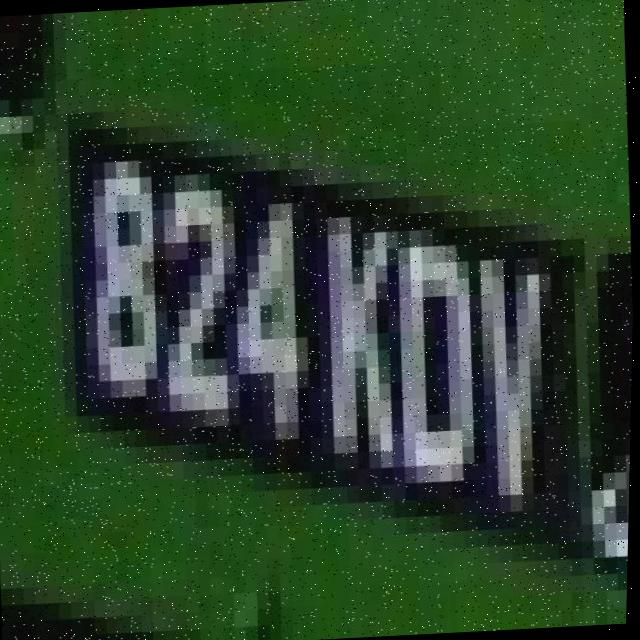LicensePlate: (14, 35, 620, 612)
